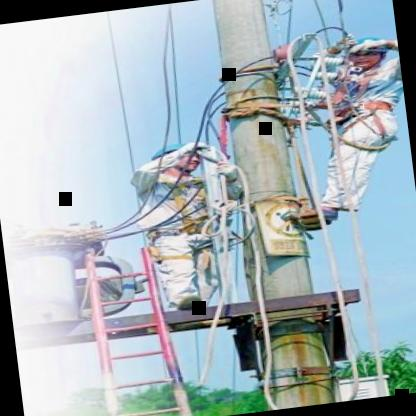helmet: (334, 30, 388, 74), (150, 136, 205, 178)
